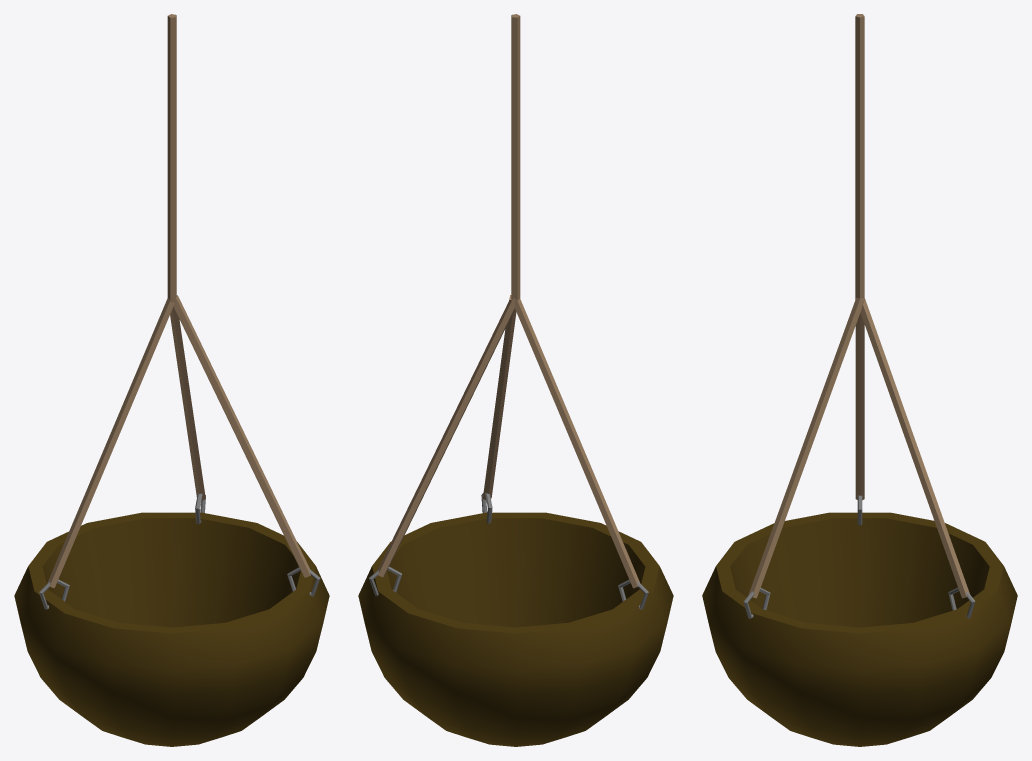
The model's file is Hanging Brazier Textured.fbx.
3 renders of one model, left to right at view 1: azimuth 30°, elevation 25°; view 2: azimuth 150°, elevation 25°; view 3: azimuth 270°, elevation 25°, orthographic.
Parts seen in each view (by area): view 1: Hanging_Brazier; view 2: Hanging_Brazier; view 3: Hanging_Brazier.
Boxes of the visible parts, bbox=[...] form: Hanging_Brazier: bbox=[14, 14, 329, 746]; Hanging_Brazier: bbox=[358, 14, 673, 746]; Hanging_Brazier: bbox=[702, 14, 1017, 746].
Bounding box in the file's own units: 1.97 × 4.96 × 1.98.
